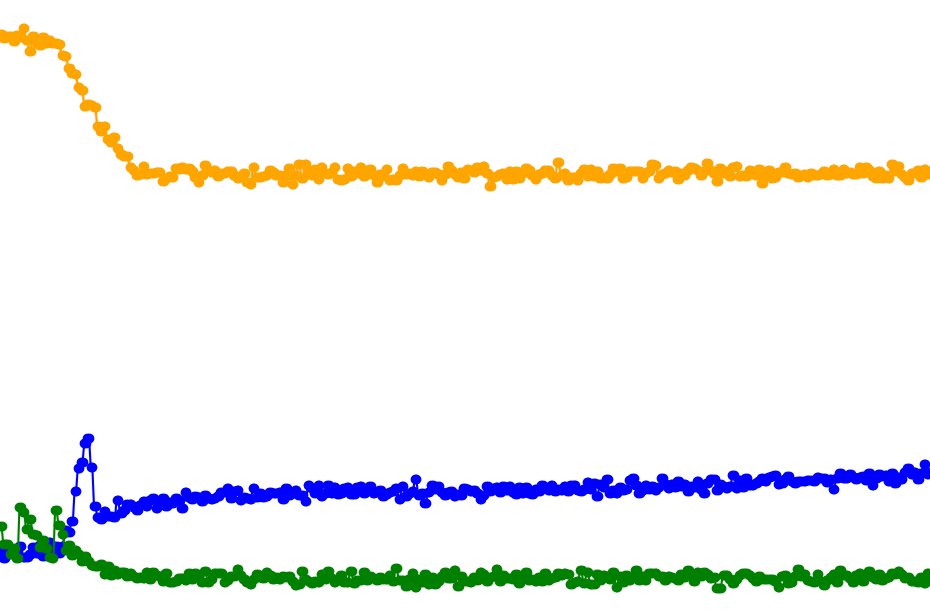Condensation CO2: (116, 0, 349, 616), (38, 0, 116, 616), (0, 0, 38, 616)
Low CO2: (116, 0, 349, 616), (38, 0, 116, 616), (0, 0, 38, 616)
Normal: (38, 0, 930, 616), (116, 0, 930, 616), (38, 0, 505, 616), (38, 0, 349, 616), (38, 0, 116, 616), (0, 0, 38, 616)
O2 Problem: (116, 0, 930, 616)
